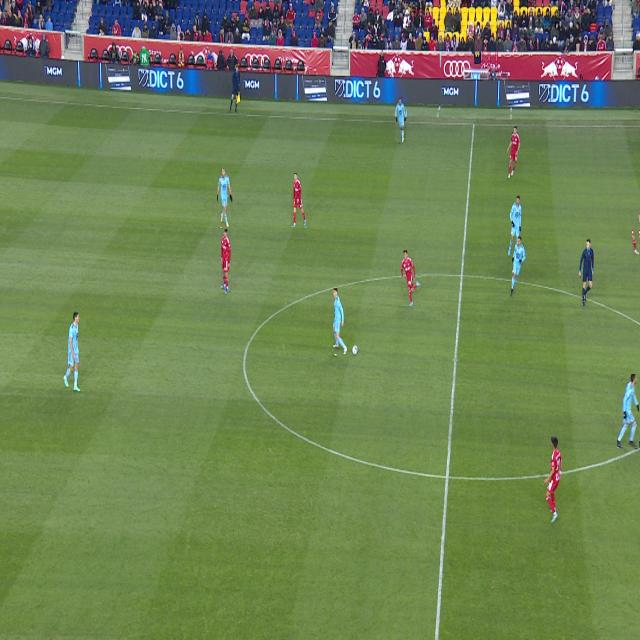football: (352, 345, 358, 355)
player: (618, 375, 639, 448), (544, 437, 562, 515), (64, 313, 80, 391), (401, 250, 421, 306), (333, 289, 347, 354), (511, 237, 526, 295), (508, 196, 521, 256), (218, 169, 231, 227), (293, 174, 306, 227), (507, 127, 520, 178), (221, 230, 231, 293), (396, 99, 406, 142), (633, 228, 639, 255), (406, 119, 406, 121), (231, 198, 231, 200)
referee: (579, 240, 593, 304)
